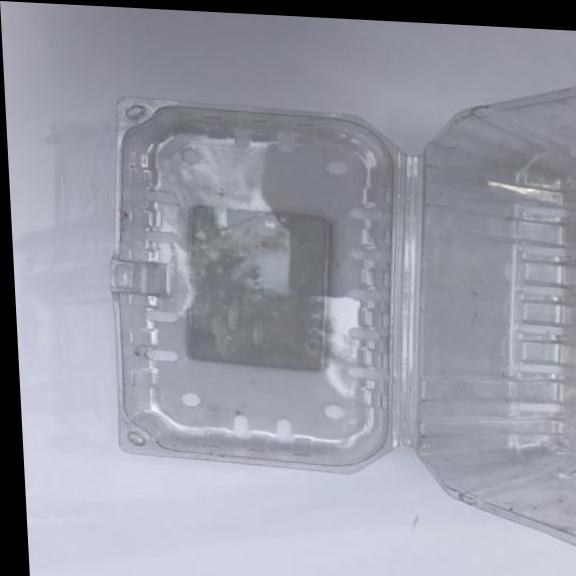Plastik: (79, 54, 576, 567)
